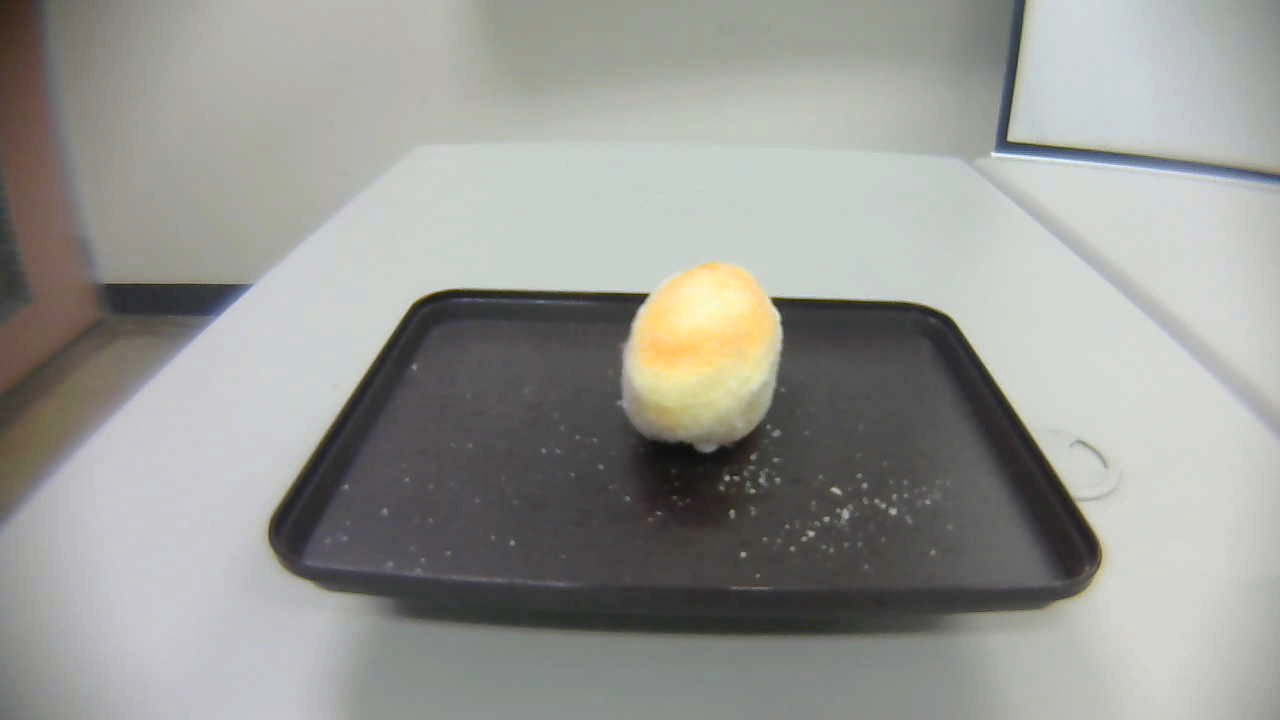coconut: (620, 260, 784, 456)
